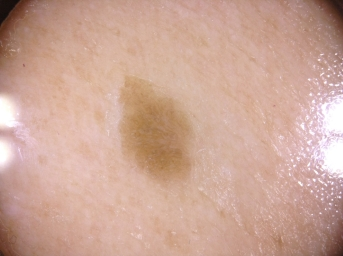seborrheic keratosis: (99, 64, 210, 195)
